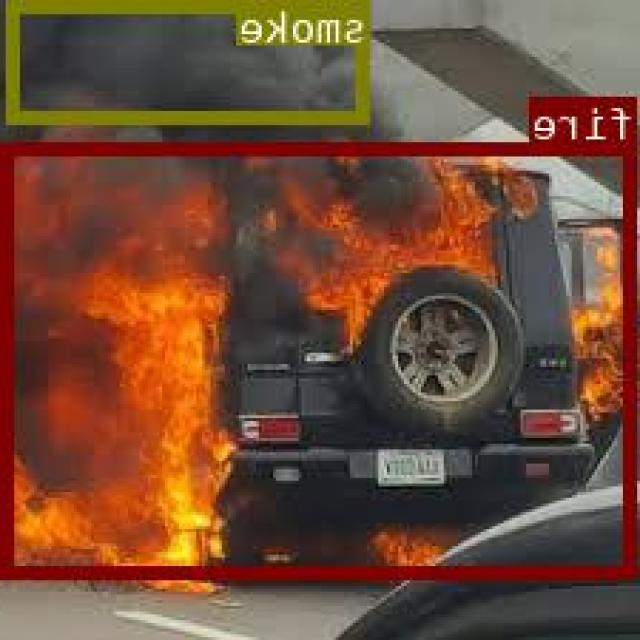fire: (6, 140, 639, 574)
smoke: (10, 0, 371, 119)
